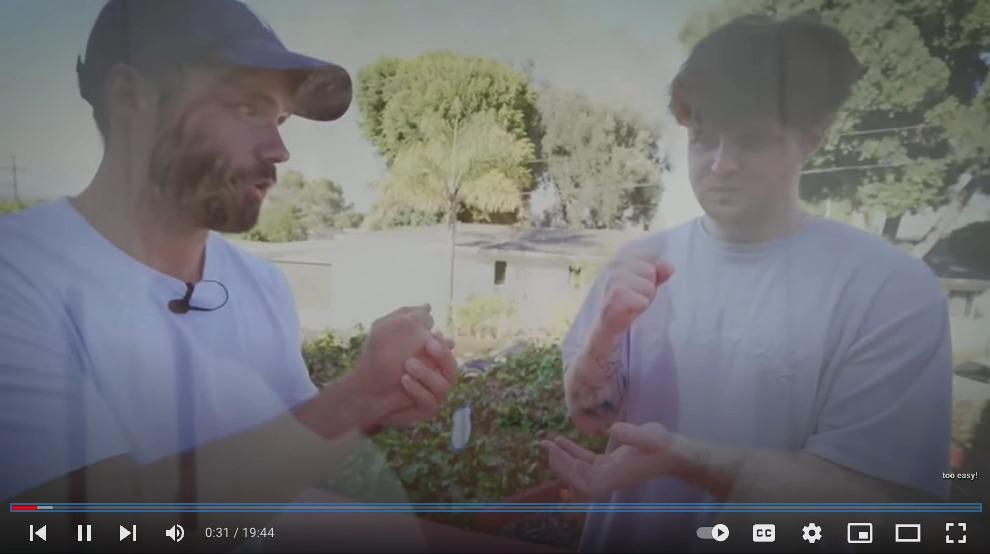Rock: (359, 301, 437, 422), (605, 247, 675, 330)
